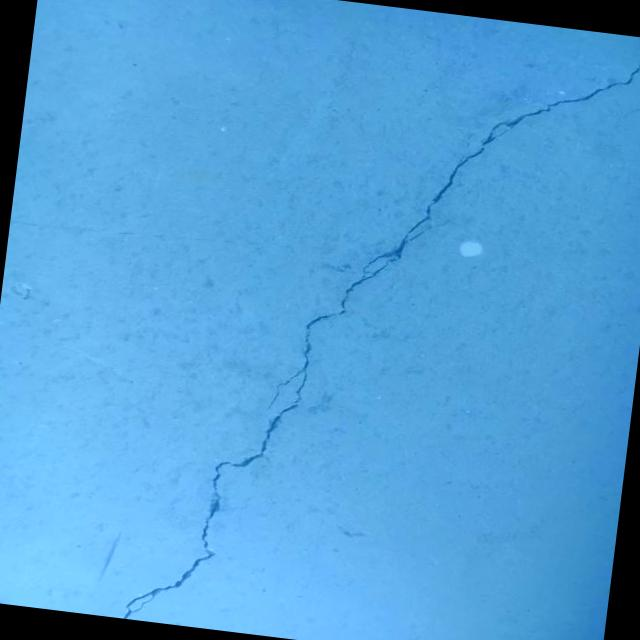crack: (121, 1, 640, 640), (614, 85, 640, 130)
